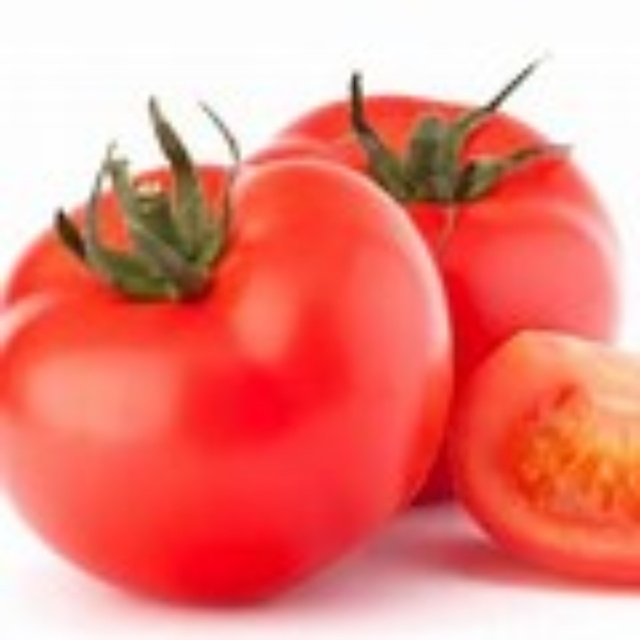tomato: (3, 154, 444, 611), (253, 93, 639, 405), (461, 328, 639, 572)
